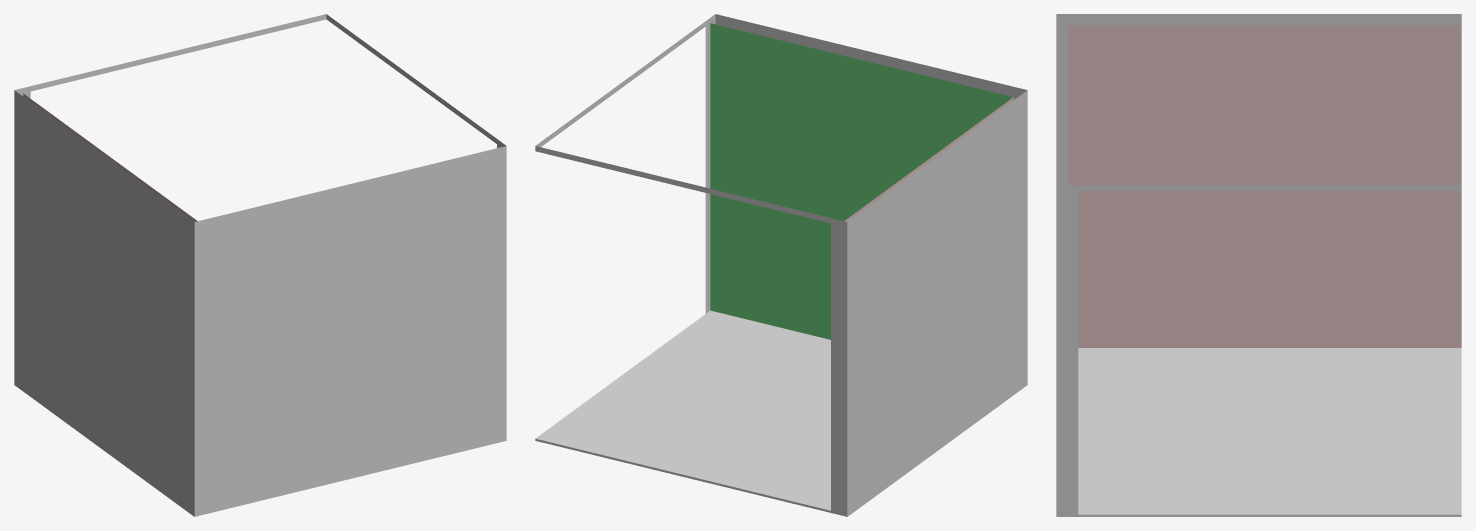
3 renders of one model, left to right at view 1: azimuth 30°, elevation 25°; view 2: azimuth 150°, elevation 25°; view 3: azimuth 270°, elevation 25°, orthographic. The views are drawn at different scales.
Visible parts, largest first — view 1: CubeFrame, CubeBody; view 2: CubeBody, CubeFrame; view 3: CubeBody, CubeFrame.
Boxes of the visible parts, x1=… form: CubeFrame: x1=14, y1=14, x2=506, y2=516; CubeBody: x1=23, y1=93, x2=197, y2=221; CubeBody: x1=536, y1=23, x2=1013, y2=510; CubeFrame: x1=535, y1=14, x2=1027, y2=516; CubeBody: x1=1068, y1=25, x2=1461, y2=514; CubeFrame: x1=1056, y1=14, x2=1461, y2=516.
Size of the model in its own units: 796 by 719 by 796.
